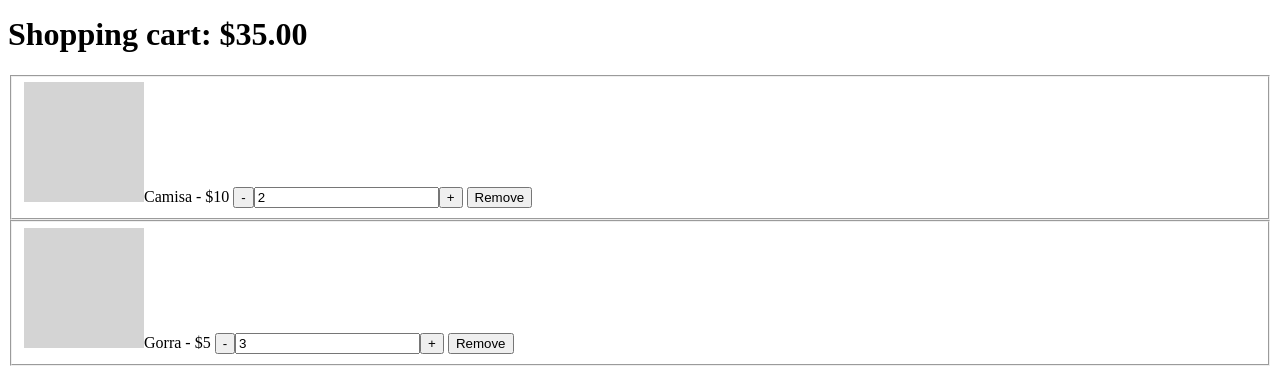
it: Cart › - baja la cantidad en una unidad y el total
Expected: the field next to "10" holds "2", [254, 188, 439, 208]
Click the button "-" next to "10" at point(244, 198), box [233, 188, 254, 208]
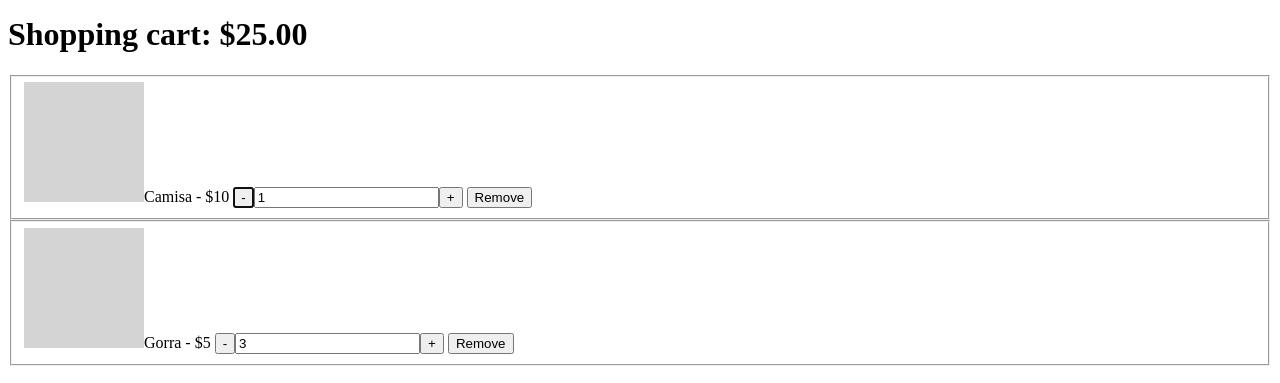
Now the field next to "10" holds "1", box [254, 188, 439, 208]
Now the heading "Shopping cart: $25.00" is shown, box [8, 16, 308, 52]
